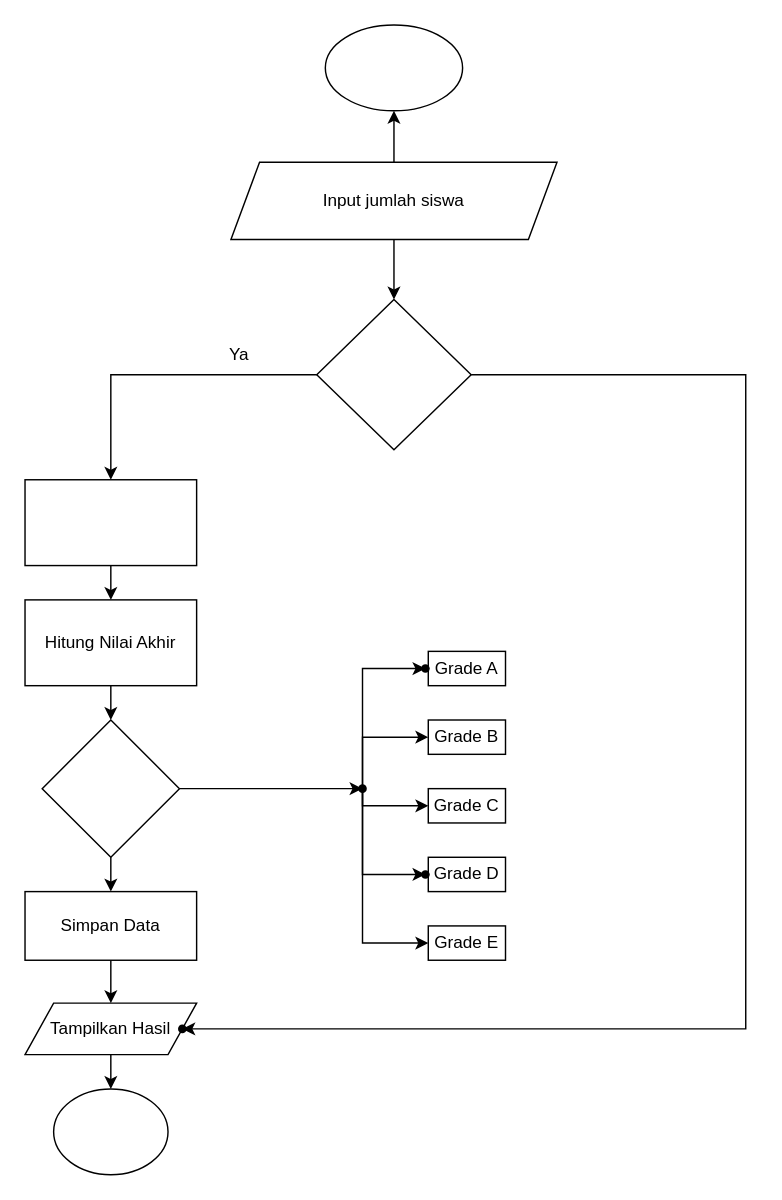
Image size: 782x1200. Some labels were removed from this diagram. The box of each missing label's shape, as (x1, y1, x2, y2) in pixels:
end: (52, 1088, 168, 1175)
i < Jumlah siswa: (315, 298, 471, 450)
Input Nama & Nilai (Tugas , UTS , UAS): (24, 478, 197, 566)
Nilai Akhir ?: (41, 719, 179, 857)
start: (324, 24, 463, 111)
